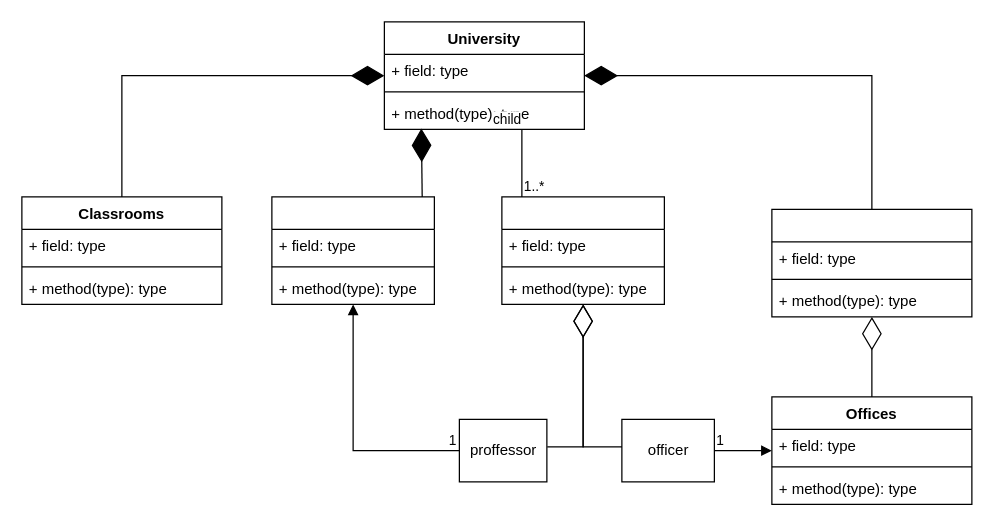
Some shapes in this 994 by 530 pixel diagram are drawn without their labels. Here are the shapes that lost their labels. From the top down, the box of each, then its label:
(271, 196, 434, 304): Work Offices
(501, 196, 664, 304): Employe
(771, 208, 972, 317): Department
